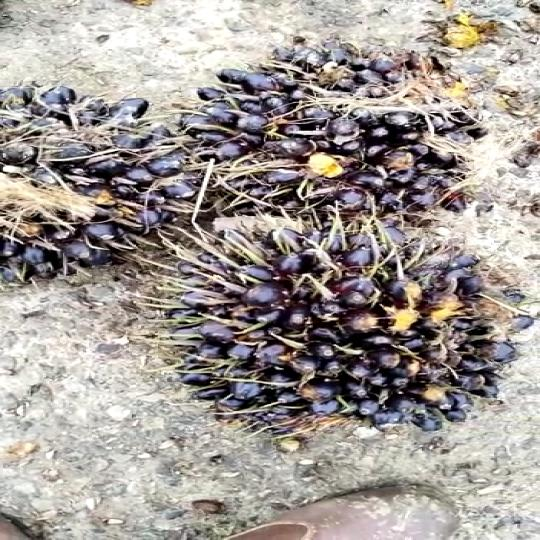mentah: (148, 224, 511, 443), (147, 28, 539, 198), (0, 70, 218, 294)
